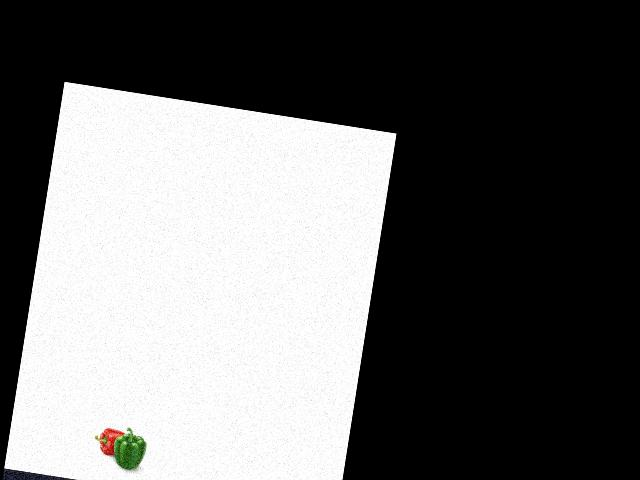bell_pepper: (92, 422, 126, 456)
